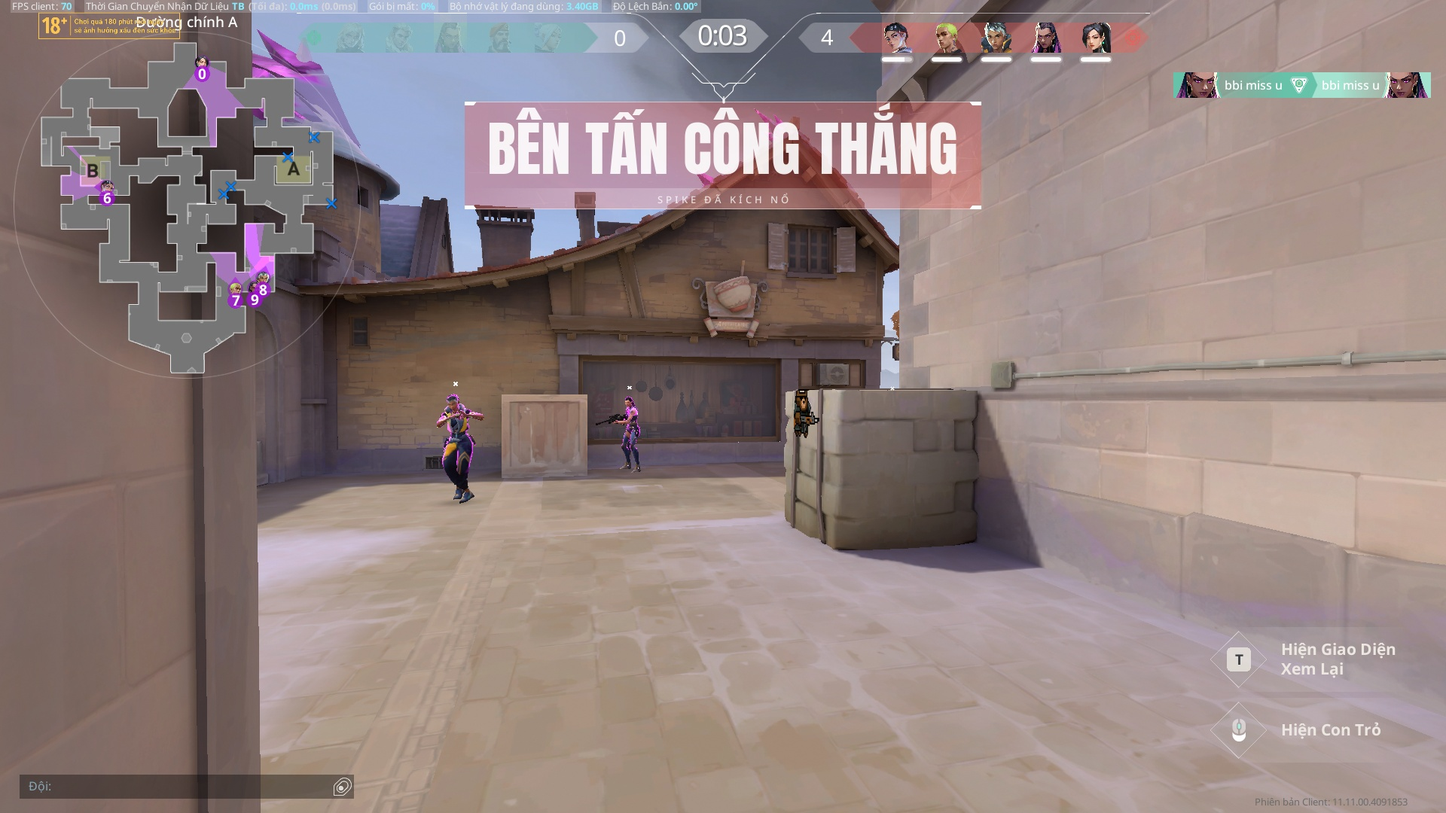body: (438, 407, 473, 433), (622, 406, 639, 426)
head: (445, 393, 460, 410), (622, 396, 635, 407)
